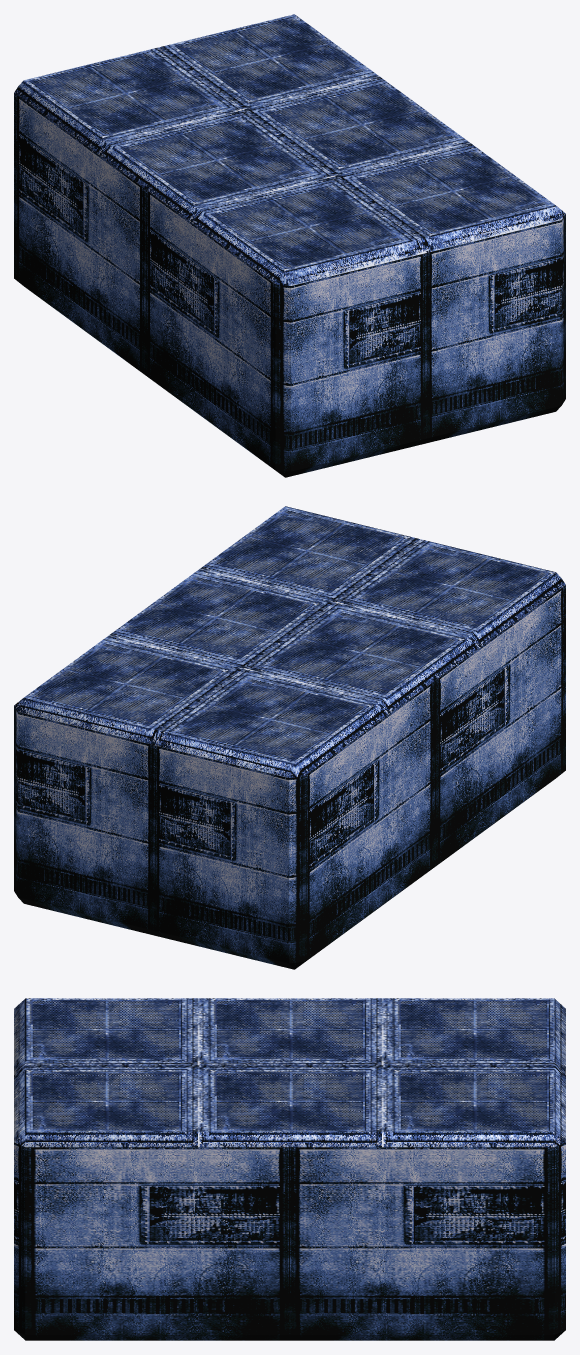
The model's file is Power Box.fbx.
The picture shows the model from 3 angles, top to bottom: view 1: azimuth 30°, elevation 25°; view 2: azimuth 150°, elevation 25°; view 3: azimuth 270°, elevation 25°; orthographic projection.
Visible parts, largest first — view 1: object_1; view 2: object_1; view 3: object_1.
Part boxes in pixels (x1,y1,x2,y2): object_1: (14, 14, 565, 477); object_1: (14, 506, 565, 969); object_1: (14, 998, 565, 1340).
Size of the model in its own units: 295 by 200 by 480.
